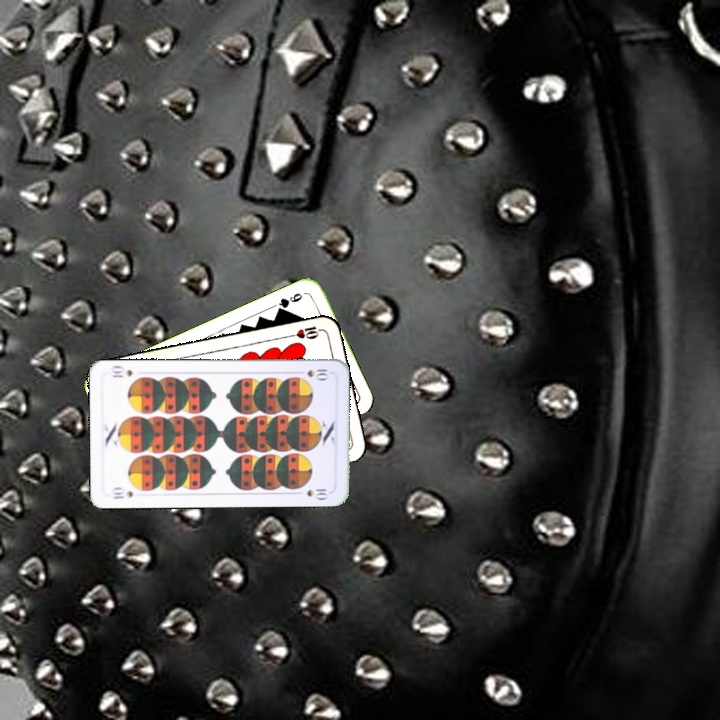G9: (273, 289, 305, 315)
H10: (285, 321, 326, 342)
S10: (292, 365, 331, 381), (108, 484, 136, 502)
